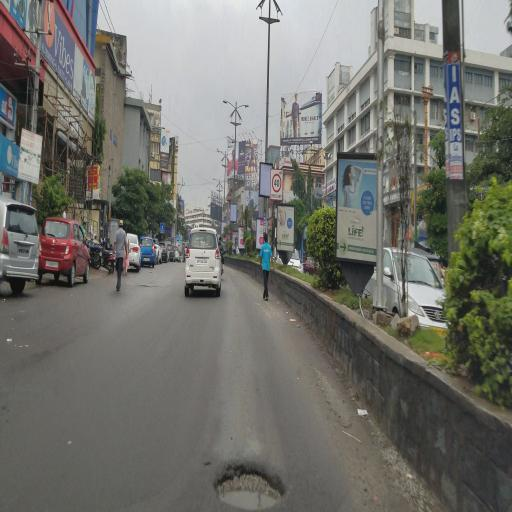street_light_0: (235, 98, 250, 120), (219, 96, 234, 118), (212, 172, 221, 194), (212, 146, 224, 161), (226, 148, 235, 162)
